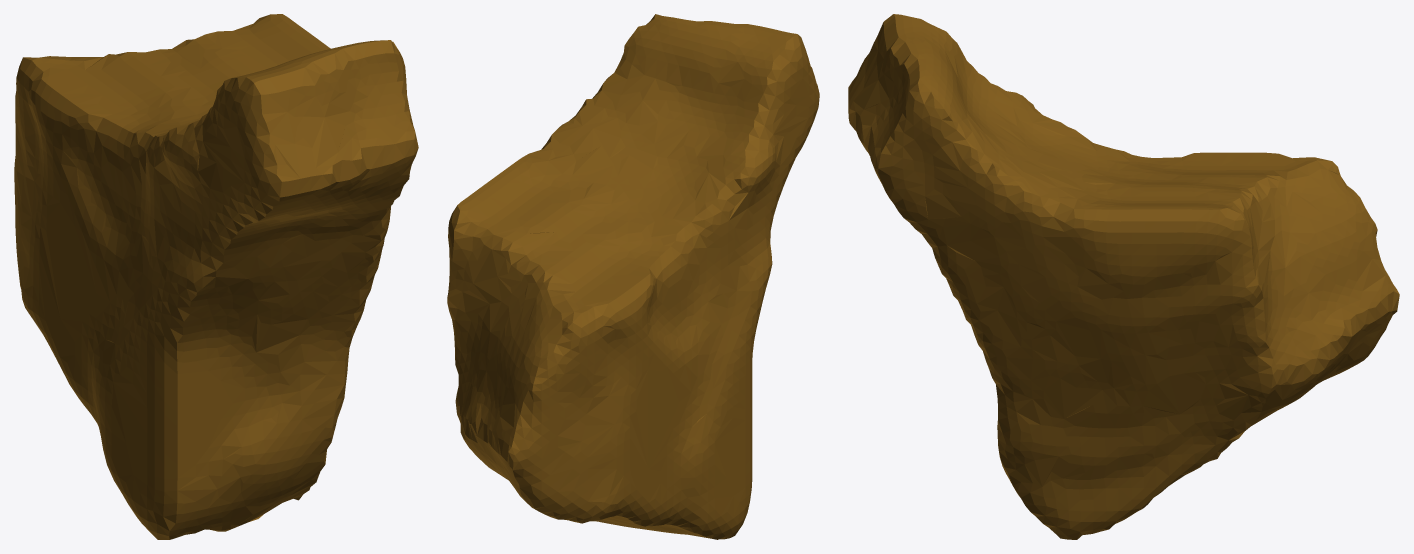
File: Model_52_RH__Area_19_of_cortex__medial_part_(A19M).obj
3 renders of one model, left to right at view 1: azimuth 30°, elevation 25°; view 2: azimuth 150°, elevation 25°; view 3: azimuth 270°, elevation 25°, orthographic. The views are drawn at different scales.
Size of the model in its own units: 2.01 by 4.09 by 4.34.
